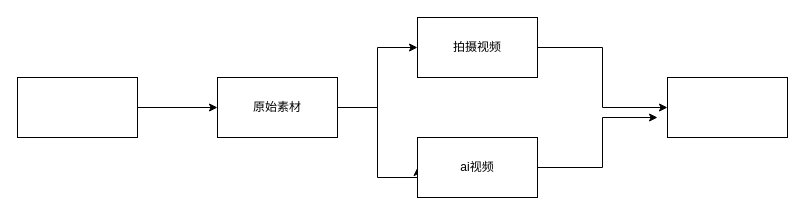
Image size: 805x215. Some labels were removed from this diagram. Each missing label, with the centre of its shape:
"剪辑合成" goes at [727,107].
"目标：视频" goes at [77,107].
